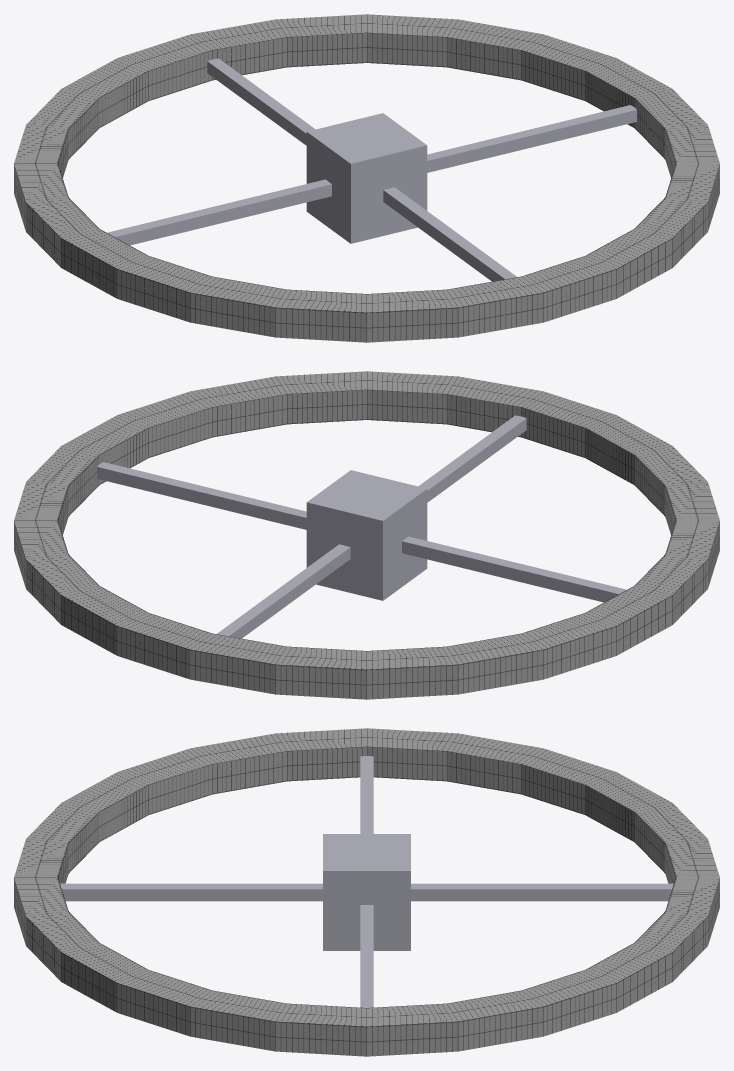
File: ring.obj
3 views of the same model, one above another, from view 1: azimuth 30°, elevation 25°; view 2: azimuth 150°, elevation 25°; view 3: azimuth 270°, elevation 25° (orthographic).
Bounding box in the file's own units: 640 × 80 × 640.
Materials: 2 (1 with a texture image).
